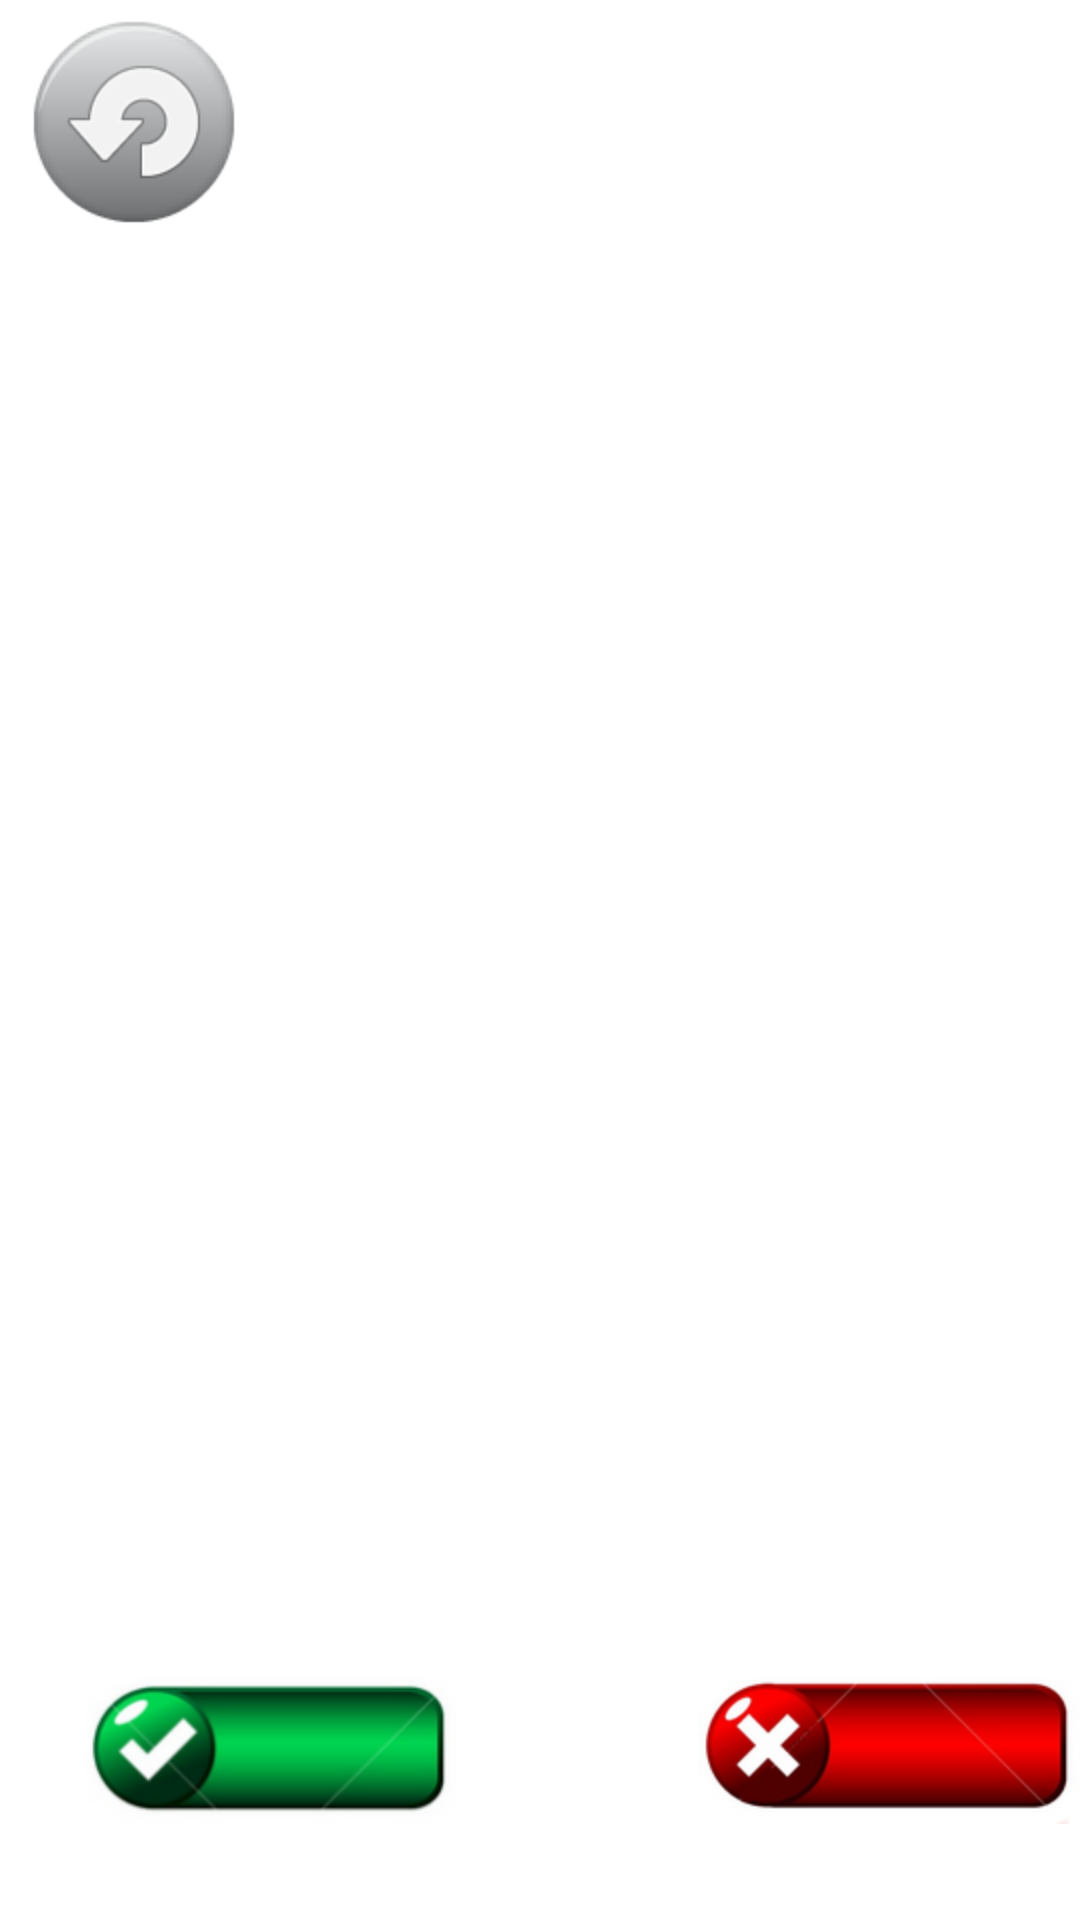

Icon click points for this 1080x1920 phone screenshot, format [x,y]:
back: [134,122]
fanok: [269,1748]
